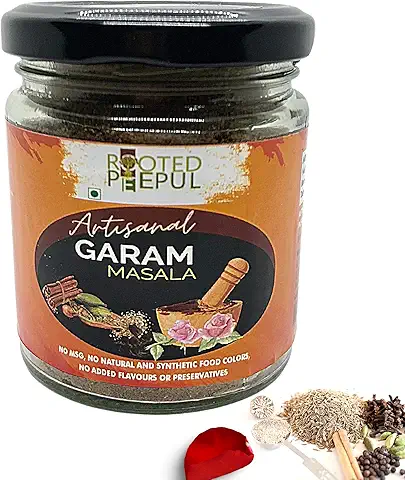Garamasala: (1, 11, 316, 405)
